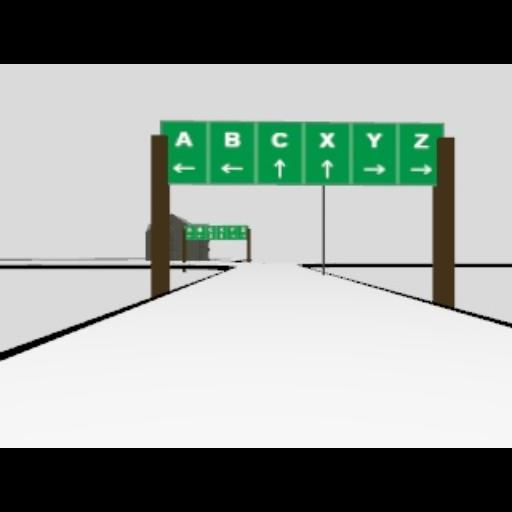A: (174, 130, 194, 148)
B: (224, 130, 242, 148)
C: (270, 131, 290, 149)
Left: (172, 161, 196, 175), (220, 162, 244, 174)
Right: (362, 162, 386, 176), (410, 164, 432, 176)
Straight: (273, 157, 287, 179), (320, 158, 334, 180)
X: (318, 131, 336, 149)
Y: (365, 131, 383, 149)
Z: (413, 131, 431, 149)
